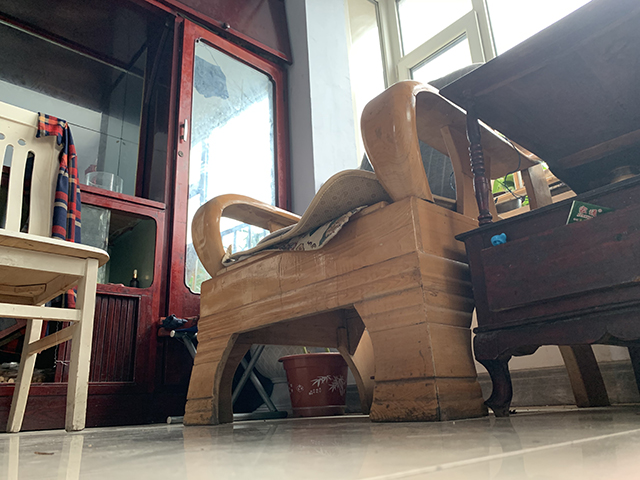cabinet: (53, 184, 177, 429)
sofa: (189, 73, 481, 423)
stool: (1, 97, 113, 436)
table: (437, 1, 640, 419)
